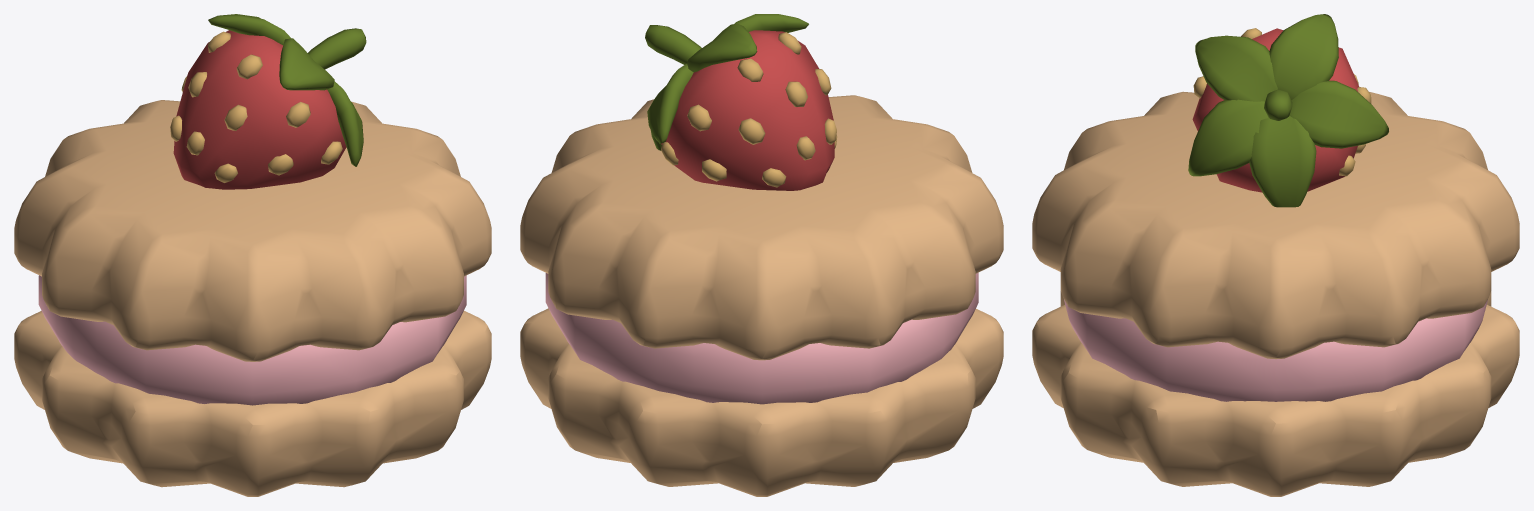
File: Food_SandwichCookie_01.glb
3 views of the same model, side by side, from view 1: azimuth 30°, elevation 25°; view 2: azimuth 150°, elevation 25°; view 3: azimuth 270°, elevation 25° (orthographic). The views are drawn at different scales.
Visible parts, largest first — view 1: SM_Food_SandwichCookie_01_Base, SM_Food_SandwichCookie_01_Strawberry, SM_Food_SandwichCookie_01_Cream; view 2: SM_Food_SandwichCookie_01_Base, SM_Food_SandwichCookie_01_Strawberry, SM_Food_SandwichCookie_01_Cream; view 3: SM_Food_SandwichCookie_01_Base, SM_Food_SandwichCookie_01_Strawberry, SM_Food_SandwichCookie_01_Cream.
Part boxes in pixels (bbox=[...]): SM_Food_SandwichCookie_01_Base: bbox=[14, 100, 491, 496]; SM_Food_SandwichCookie_01_Strawberry: bbox=[170, 14, 366, 189]; SM_Food_SandwichCookie_01_Cream: bbox=[38, 275, 466, 405]; SM_Food_SandwichCookie_01_Base: bbox=[520, 95, 1003, 496]; SM_Food_SandwichCookie_01_Strawberry: bbox=[645, 14, 837, 190]; SM_Food_SandwichCookie_01_Cream: bbox=[545, 272, 978, 404]; SM_Food_SandwichCookie_01_Base: bbox=[1032, 91, 1519, 496]; SM_Food_SandwichCookie_01_Strawberry: bbox=[1188, 14, 1388, 207]; SM_Food_SandwichCookie_01_Cream: bbox=[1064, 299, 1487, 401].
Bounding box in the file's own units: 0.2287 × 0.2073 × 0.2287.
Materials: 1 (1 with a texture image).
